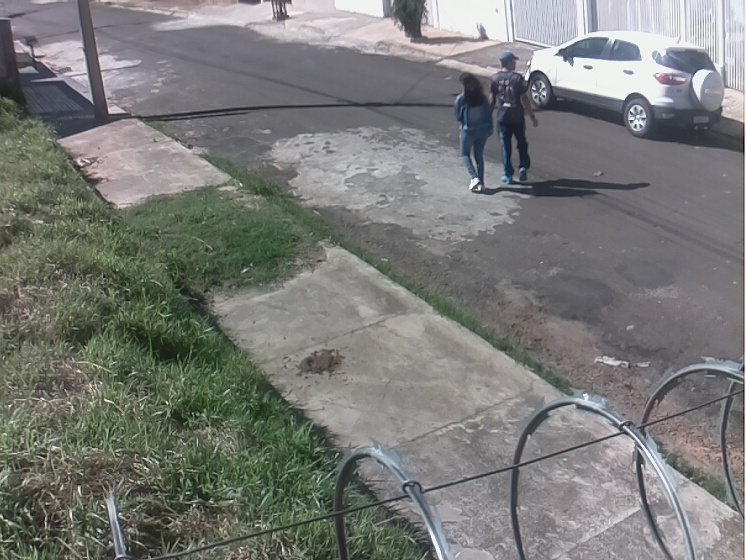person: (487, 51, 539, 185), (453, 71, 494, 193)
